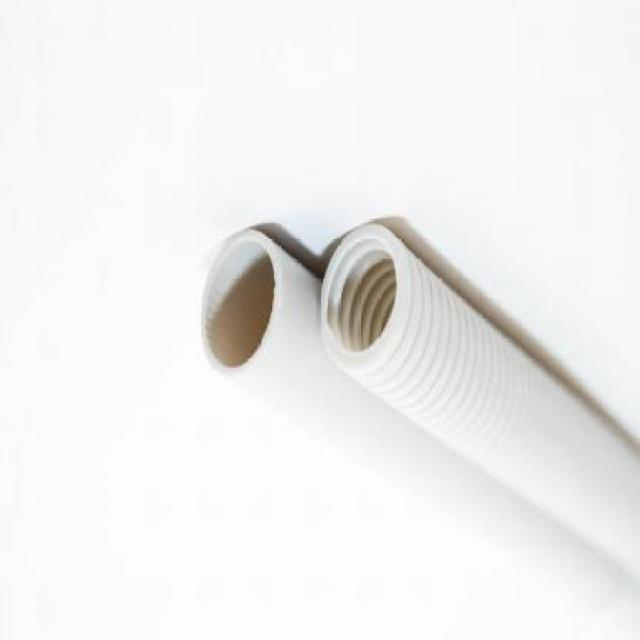pipe: (319, 225, 407, 374), (200, 228, 279, 377)
